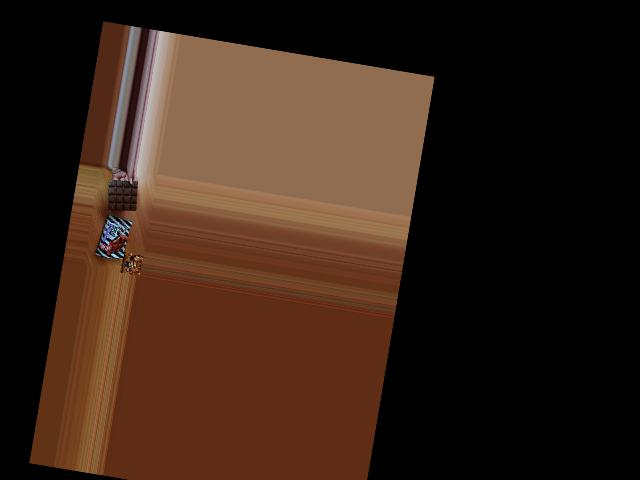chocolate: (95, 212, 131, 262)
